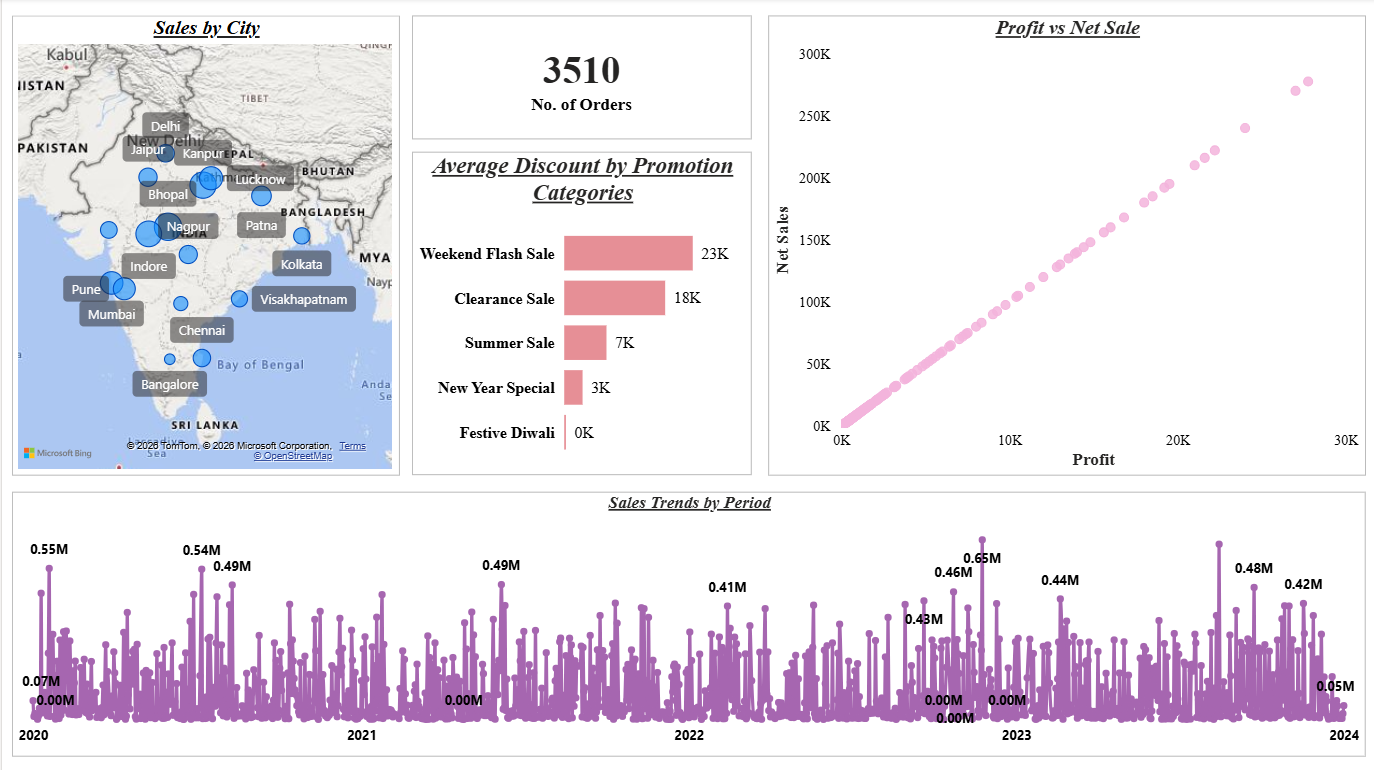

The page's visual inventory and layout, read from the dashboard file:
{"tool":"powerbi","page":{"name":"Overview","canvas":[1280,720],"ordinal":0},"visuals":[{"type":"lineChart","title":"Sales Trends by Period","fields":{"Y":["Sum(Fact Table.Net Sales)"],"Category":["Fact Table.Date (dd/mm/yyyy).Variation.Date Hierarchy.Year"]},"box":[9.3,459.3,1259.3,246.5],"z":0},{"type":"scatterChart","title":"Profit vs Net Sale","fields":{"X":["Fact Table.Profit"],"Y":["Fact Table.Net Sales"]},"box":[712.8,16.3,555.8,427.9],"z":1000},{"type":"barChart","title":"Average Discount by Promotion Categories","fields":{"Y":["Avg(Fact Table.Discount)"],"Category":["Dim Promotion.Promotion Name"]},"box":[381.4,143,316.3,301.2],"z":2000},{"type":"map","title":"Sales by City","fields":{"Category":["Dim Customers.City"],"Size":["Sum(Fact Table.Net Sales)"]},"box":[9.3,16.3,360.5,427.9],"z":3000},{"type":"card","fields":{"Values":["Count(Fact Table.Oder ID)"]},"box":[381.4,16.3,316.3,115.1],"z":4000}]}

Visuals, with their boxes in screenshot pixels (x1, y1, x2, y2), scaled from the page's 1280x720 canvas onto the 1374x770 screenshot:
"Sales Trends by Period" lineChart: select_region(10, 491, 1362, 755)
"Profit vs Net Sale" scatterChart: select_region(765, 17, 1362, 475)
"Average Discount by Promotion Categories" barChart: select_region(409, 153, 749, 475)
"Sales by City" map: select_region(10, 17, 397, 475)
card - Count(Fact Table.Oder ID): select_region(409, 17, 749, 141)
